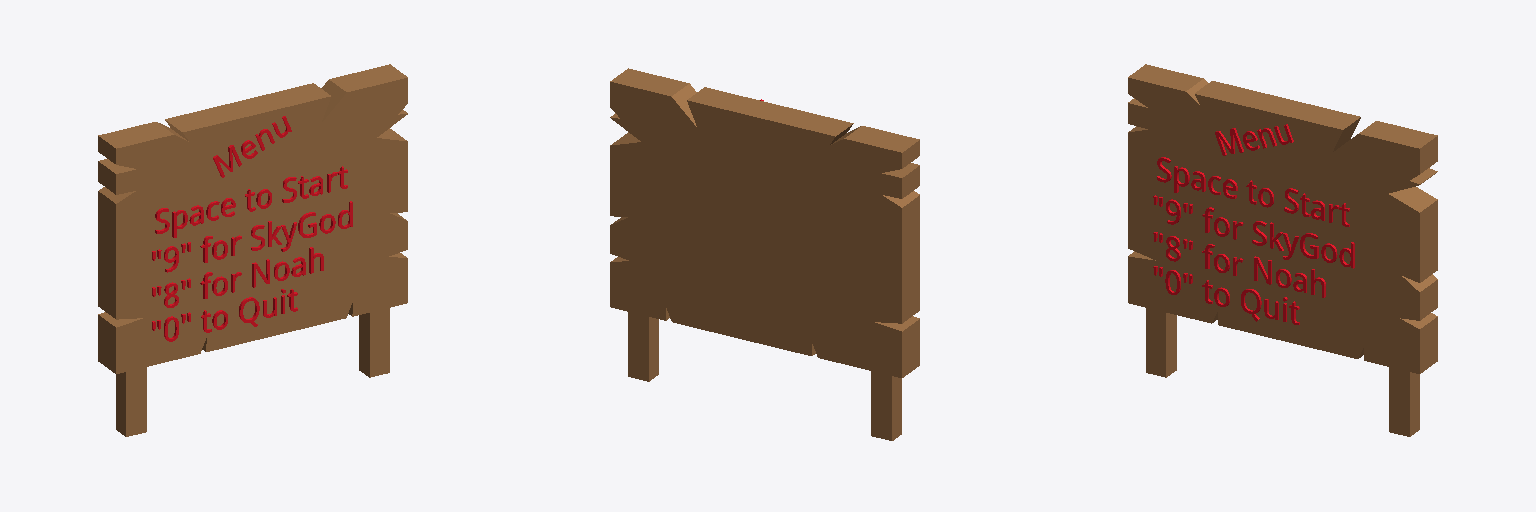
The model's file is tinker.obj.
3 views of the same model, side by side, from view 1: azimuth 30°, elevation 25°; view 2: azimuth 150°, elevation 25°; view 3: azimuth 330°, elevation 25° (orthographic).
Parts seen in each view (by area): view 1: obj_0; view 2: obj_0; view 3: obj_0.
Part boxes in pixels (bbox=[...]): obj_0: bbox=[98, 64, 407, 436]; obj_0: bbox=[610, 68, 919, 440]; obj_0: bbox=[1128, 64, 1437, 436].
Bounding box in the file's own units: 84 × 81 × 11.77.